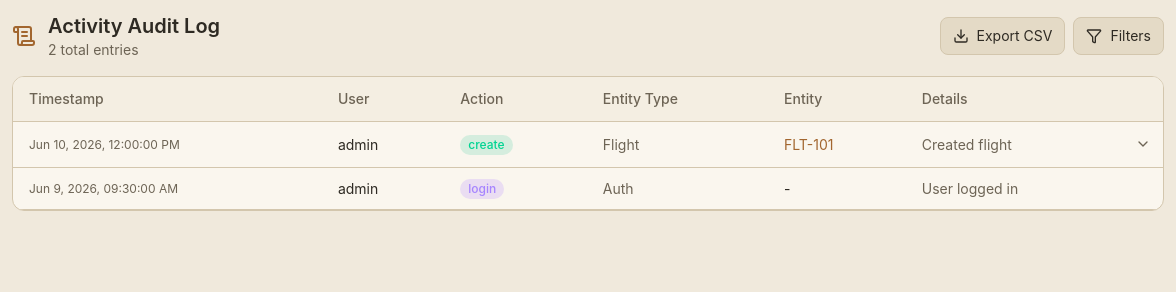
AuditLogPage › expands a row to reveal field-level changes
Expected: the button "FLT-101" is shown, top-left (784, 134), bottom-right (834, 154)
Step 1. Click the button titled "View changes" → (1143,144), box top-left (1131, 132), bottom-right (1155, 156)
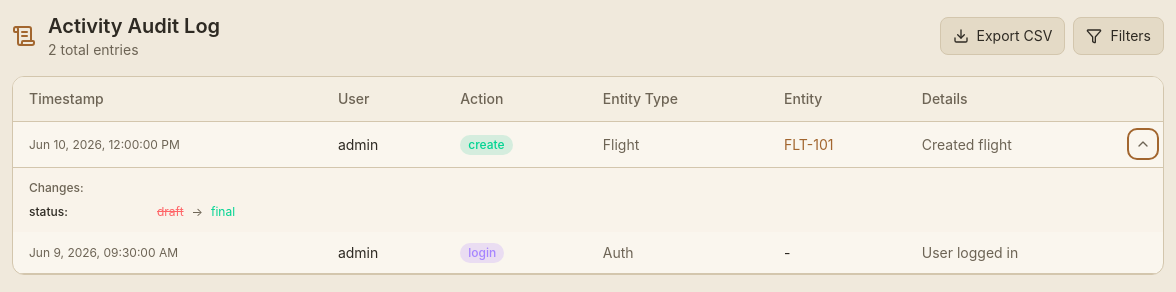
Now the text "Changes:" is shown, box top-left (29, 180), bottom-right (84, 195)
Now the text "status:" is shown, box top-left (29, 204), bottom-right (68, 219)
